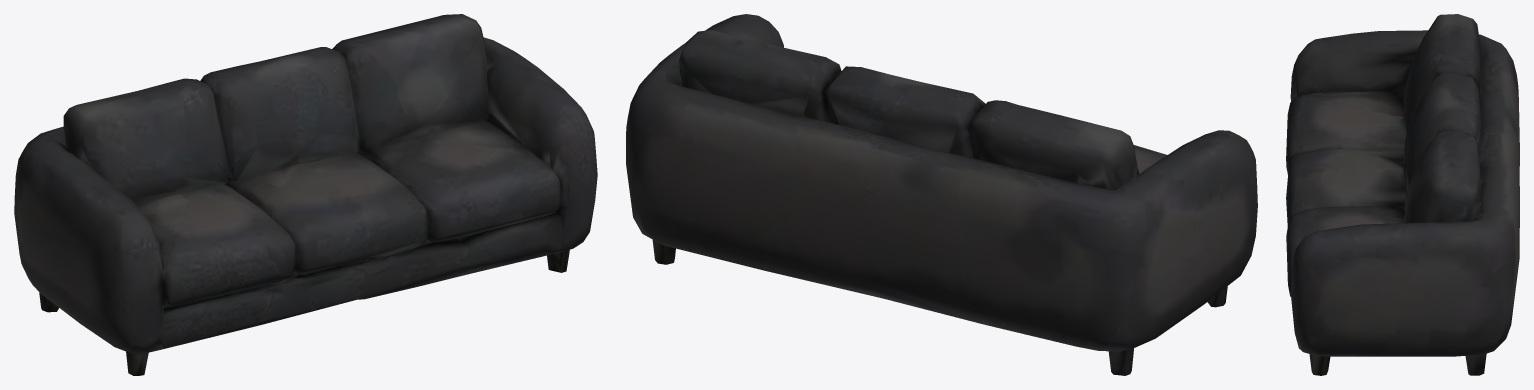
Rendered from sofa.lod2.glb.
3 views of the same model, side by side, from view 1: azimuth 30°, elevation 25°; view 2: azimuth 150°, elevation 25°; view 3: azimuth 270°, elevation 25° (orthographic). The views are drawn at different scales.
Visible parts, largest first — view 1: tripo_node_4098a23a-3137-4a23-b1d9-4338fed7cc7a; view 2: tripo_node_4098a23a-3137-4a23-b1d9-4338fed7cc7a; view 3: tripo_node_4098a23a-3137-4a23-b1d9-4338fed7cc7a.
Boxes of the visible parts, box(x1,y1,x2,y2) form: tripo_node_4098a23a-3137-4a23-b1d9-4338fed7cc7a: box(14, 14, 597, 375); tripo_node_4098a23a-3137-4a23-b1d9-4338fed7cc7a: box(626, 14, 1257, 375); tripo_node_4098a23a-3137-4a23-b1d9-4338fed7cc7a: box(1286, 14, 1519, 375).
Bounding box in the file's own units: 1.8 × 0.7198 × 0.8217.
1 material, 1 textured.
